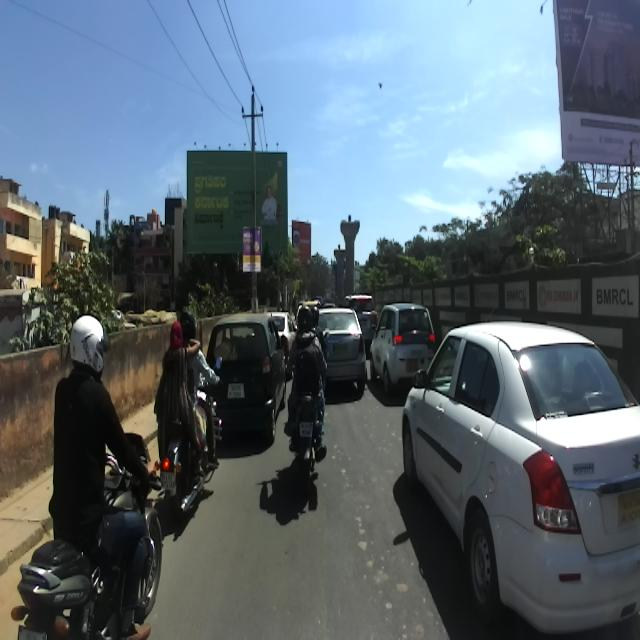car ahead at: (399, 317, 636, 640)
motorcycle ahead at: (150, 416, 205, 516), (286, 393, 332, 462)
